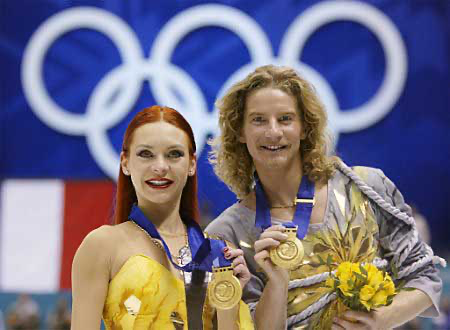Face: (242, 99, 305, 172), (129, 132, 191, 205)
